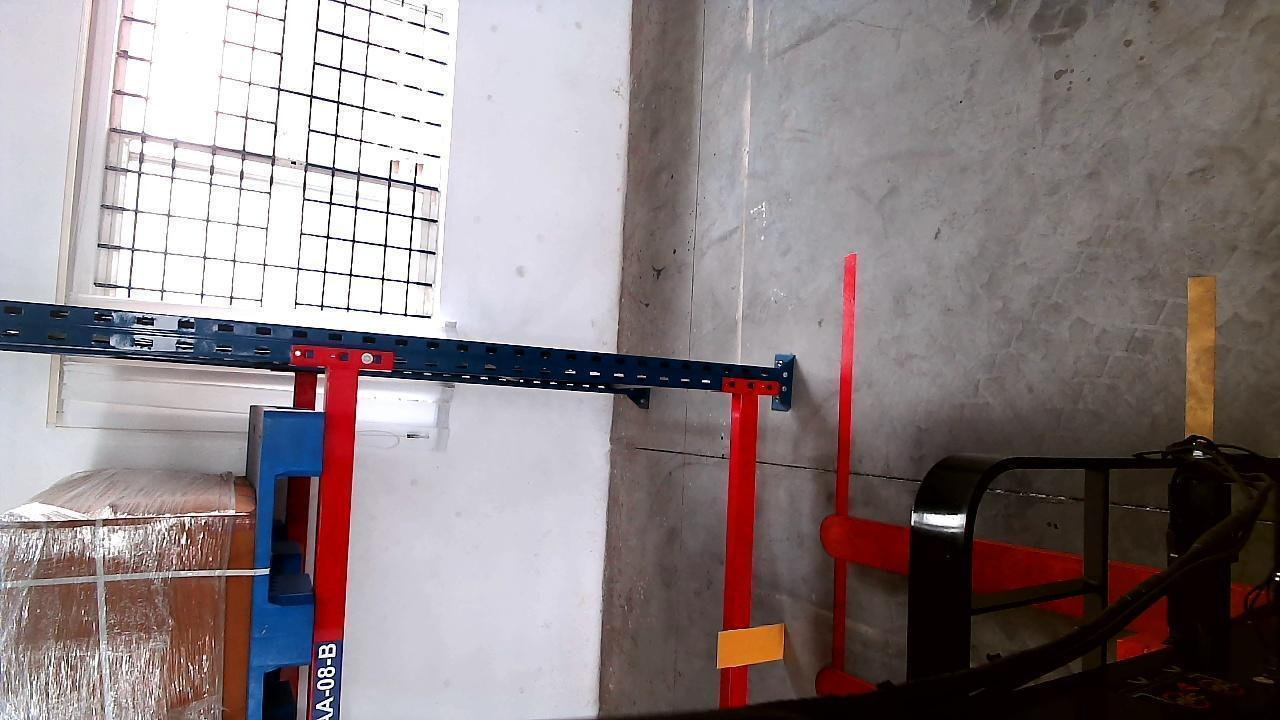red_line: (830, 251, 864, 672)
yellow_line: (1186, 273, 1215, 436)
